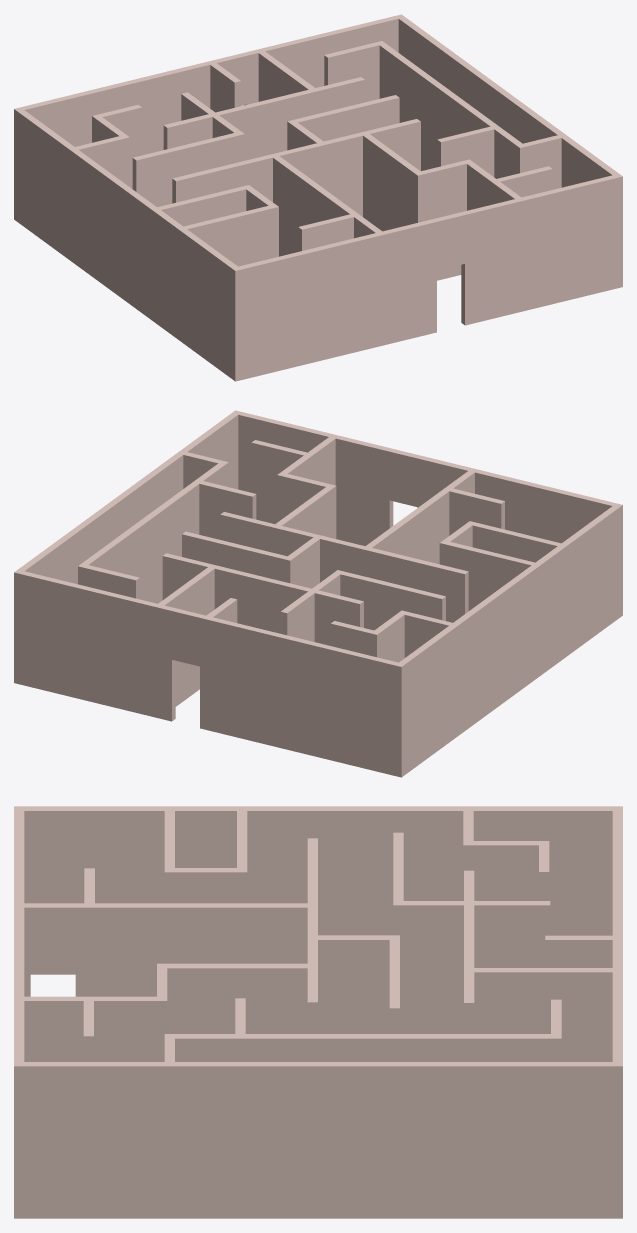
Rendered from mazeroom.fbx.
The picture shows the model from 3 angles, top to bottom: view 1: azimuth 30°, elevation 25°; view 2: azimuth 150°, elevation 25°; view 3: azimuth 270°, elevation 25°; orthographic projection. The views are drawn at different scales.
Parts seen in each view (by area): view 1: room; view 2: room; view 3: room.
Boxes of the visible parts, x1,y1,x2,y2 form: room: (14,14,622,381); room: (14,410,622,777); room: (14,806,622,1218).
Bounding box in the file's own units: 767 × 209 × 759.
